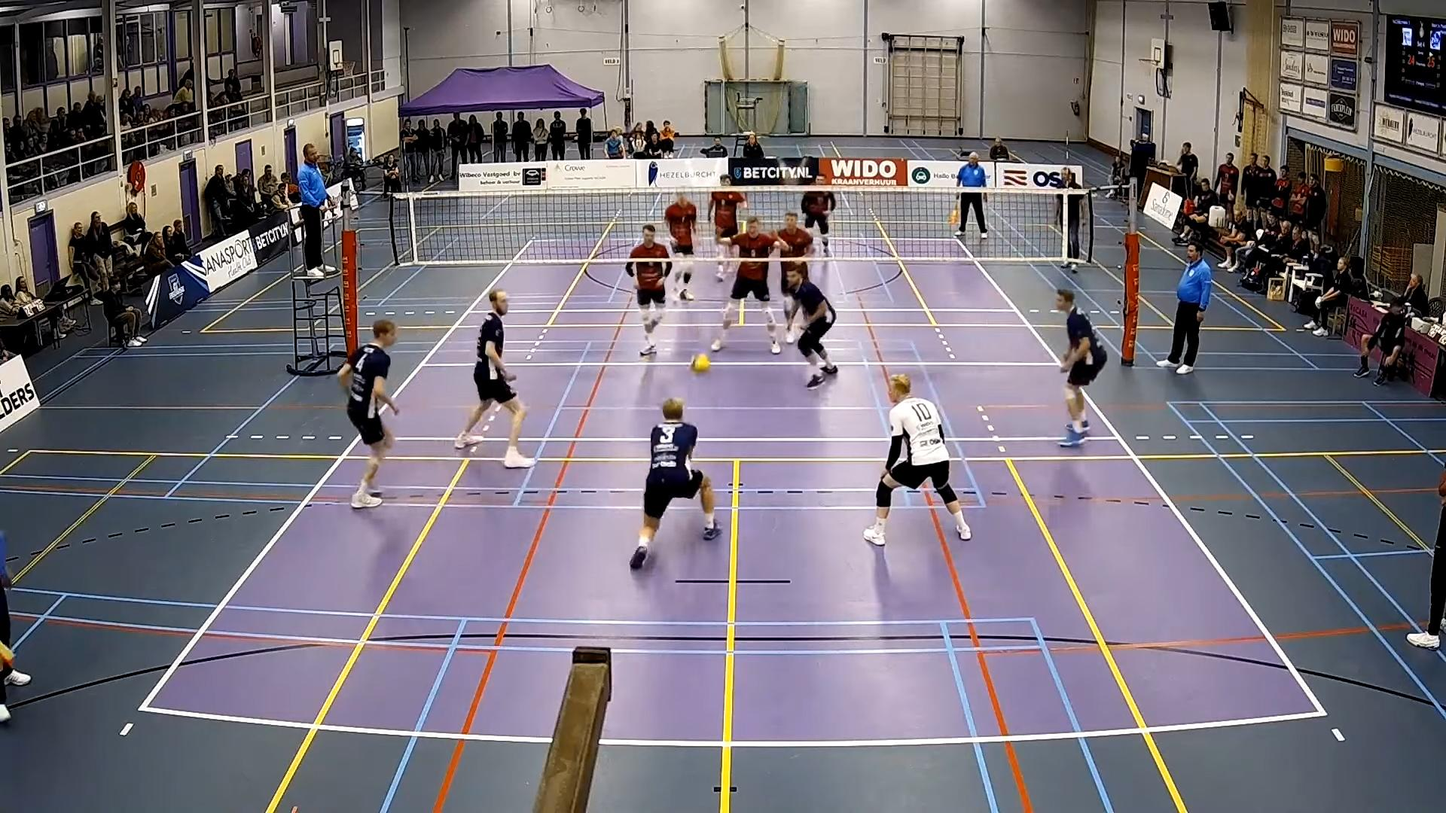Player: (863, 374, 971, 545), (454, 290, 534, 467), (337, 320, 398, 508), (711, 218, 780, 354), (1055, 289, 1106, 447), (785, 266, 837, 388), (626, 224, 672, 356), (775, 212, 813, 343), (709, 173, 746, 280), (664, 191, 697, 300), (801, 189, 835, 251)
Receive: (629, 392, 710, 567)
ball: (691, 356, 719, 374)
